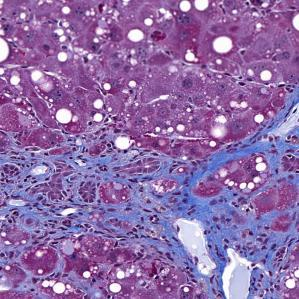fibrosis: (145, 163, 294, 269), (6, 139, 128, 224)
